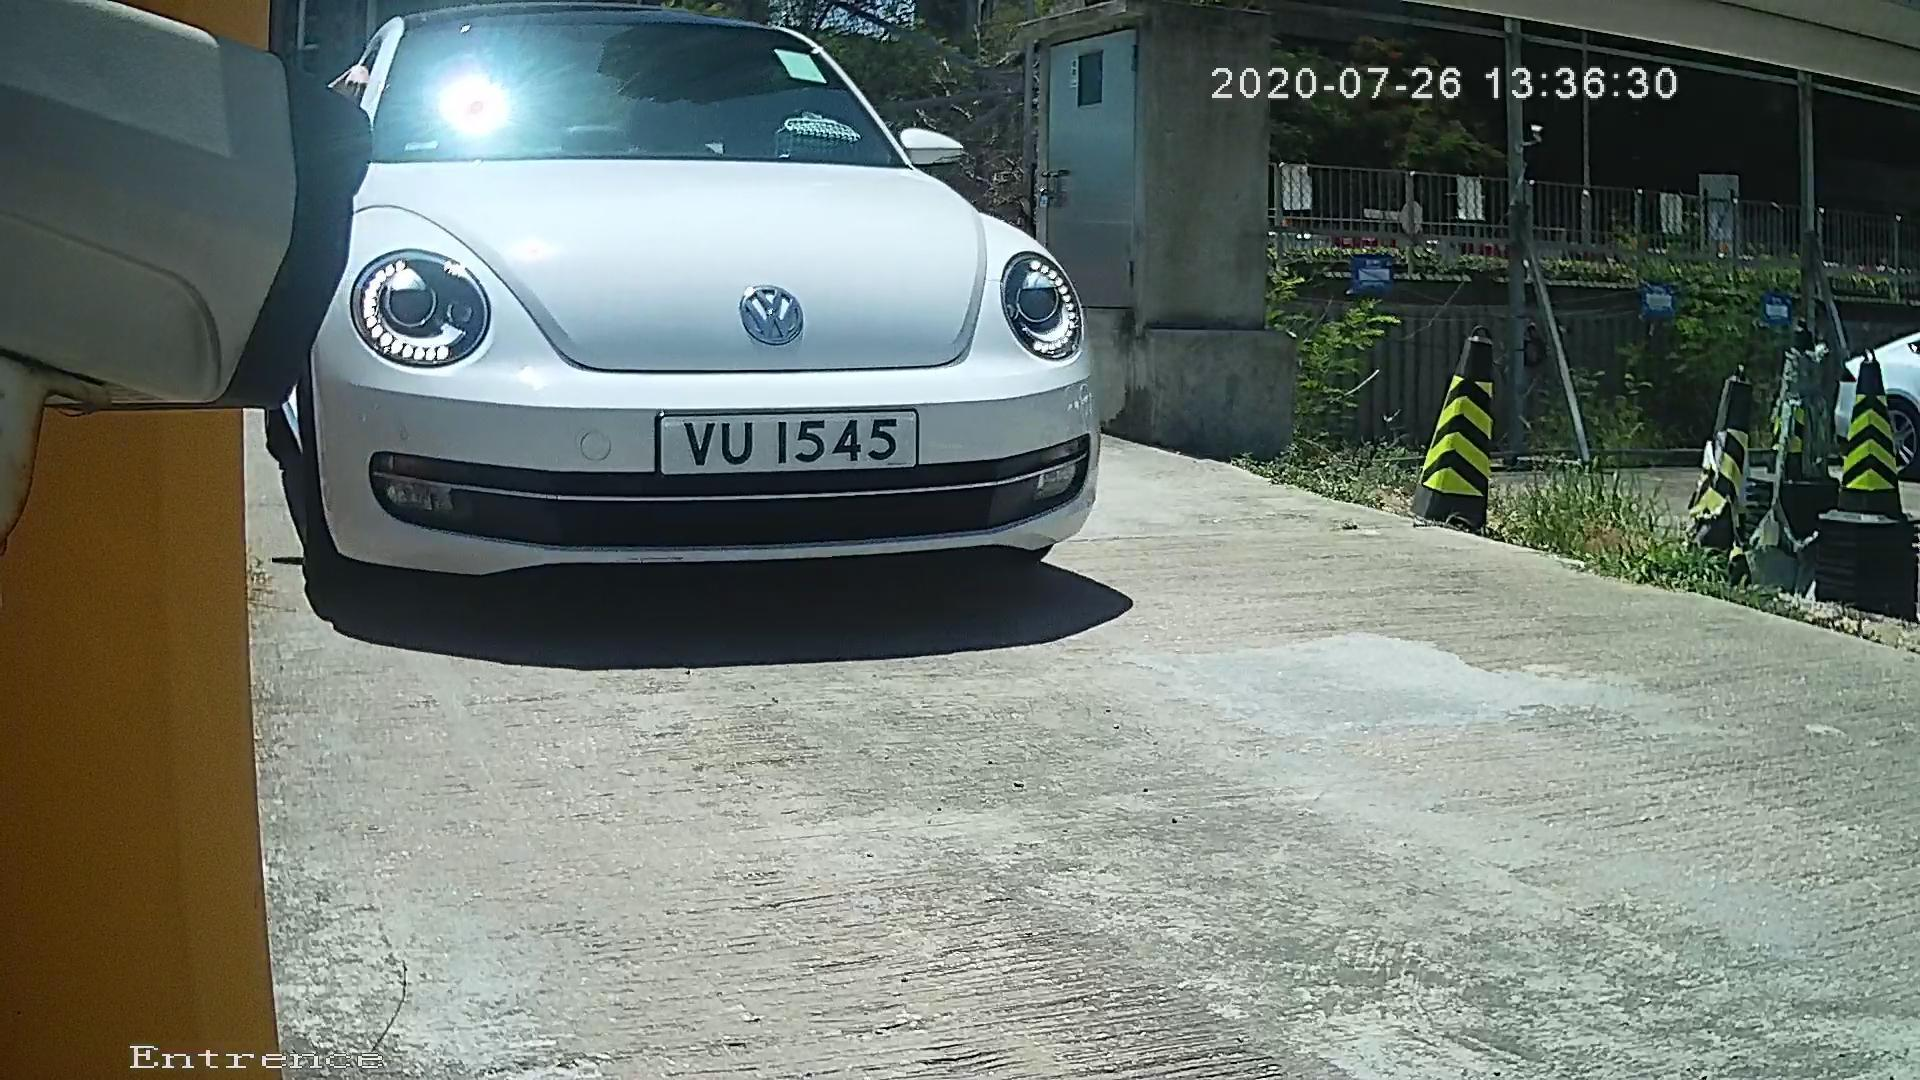privatecar: (223, 1, 1251, 671)
